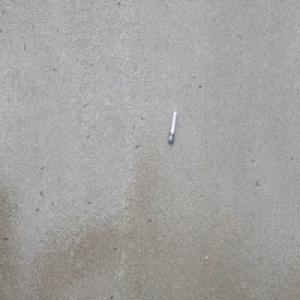Battery: (168, 110, 177, 144)
